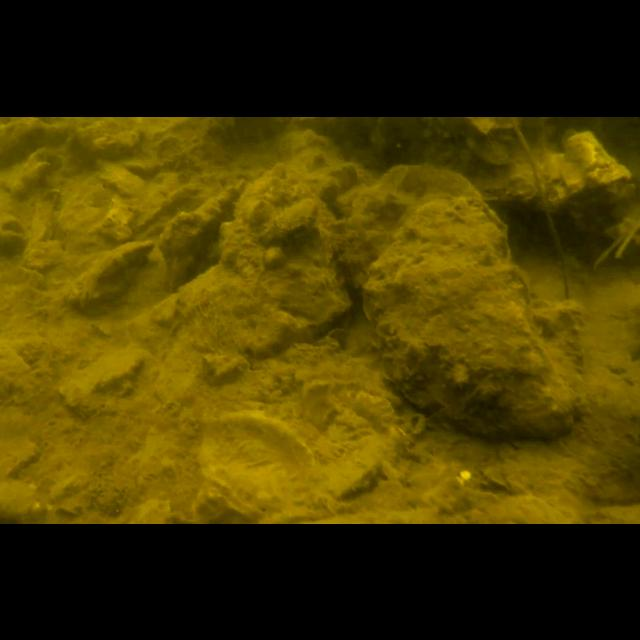Oyster-Closed: (358, 190, 572, 436), (337, 160, 479, 294), (194, 406, 314, 514), (154, 180, 238, 288), (59, 234, 154, 308), (258, 195, 320, 247), (69, 116, 143, 158)
Oyster-Open: (419, 116, 536, 202), (538, 126, 634, 212), (0, 213, 30, 254)
